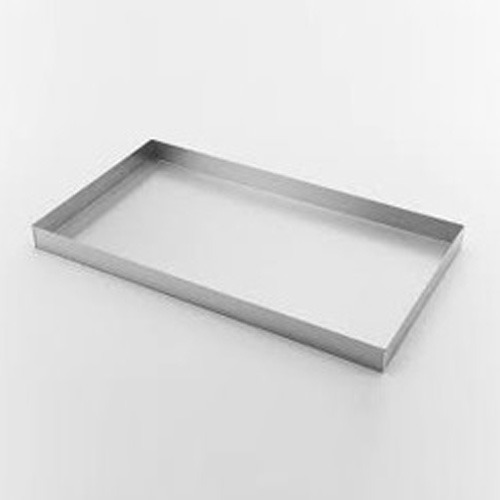metal: (30, 137, 465, 373)
